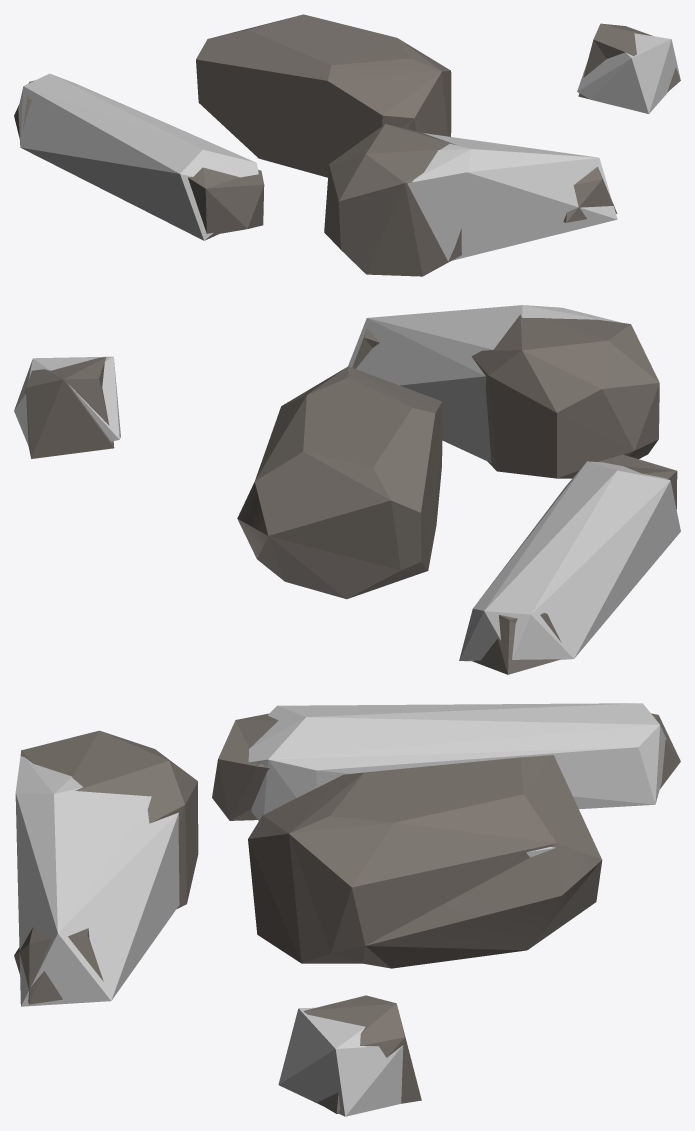
Rendered from SM_Env_Pebbles_01.fbx.
3 renders of one model, top to bottom at view 1: azimuth 30°, elevation 25°; view 2: azimuth 150°, elevation 25°; view 3: azimuth 270°, elevation 25°, orthographic. The views are drawn at different scales.
Parts seen in each view (by area): view 1: SM_Env_Pebbles_01, SM_Env_Pebbles_01_ConvexHulls; view 2: SM_Env_Pebbles_01, SM_Env_Pebbles_01_ConvexHulls; view 3: SM_Env_Pebbles_01, SM_Env_Pebbles_01_ConvexHulls.
Part boxes in pixels (x1,y1,x2,y2): SM_Env_Pebbles_01: (14,14,680,276); SM_Env_Pebbles_01_ConvexHulls: (18,33,680,261); SM_Env_Pebbles_01: (25,314,677,674); SM_Env_Pebbles_01_ConvexHulls: (14,305,680,661); SM_Env_Pebbles_01: (14,713,680,1113); SM_Env_Pebbles_01_ConvexHulls: (15,703,666,1116).
Size of the model in its own units: 160 by 123 by 32.54.
Materials: 2 (1 with a texture image).
